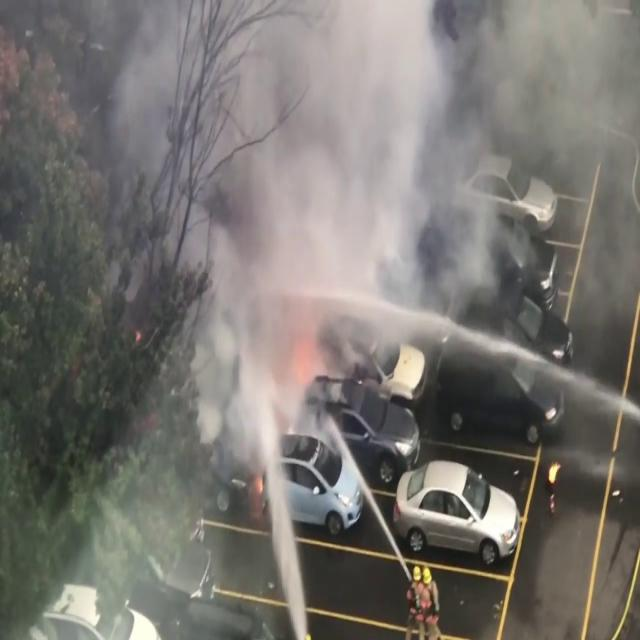Smoke: (8, 0, 638, 366)
